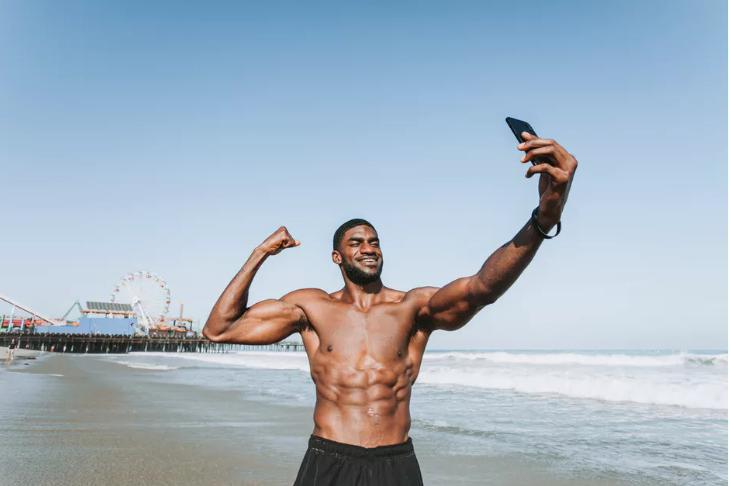face: (341, 225, 384, 284)
